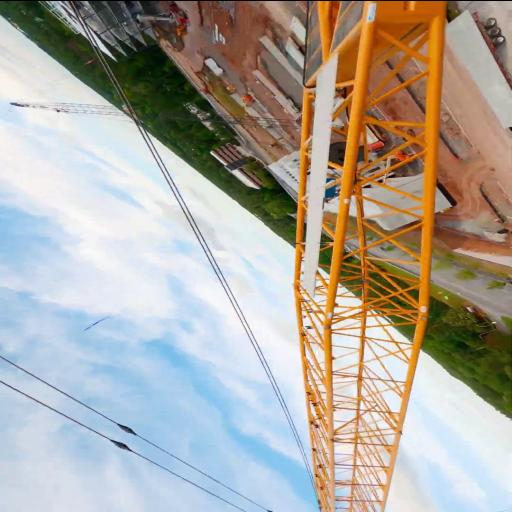uav: (76, 312, 117, 332)
